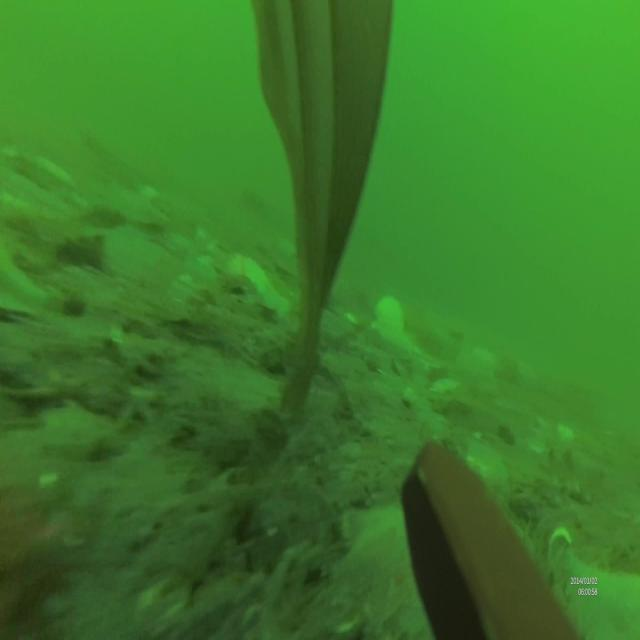echinus: (216, 249, 289, 317)
starfish: (339, 501, 467, 640), (549, 532, 640, 638)
